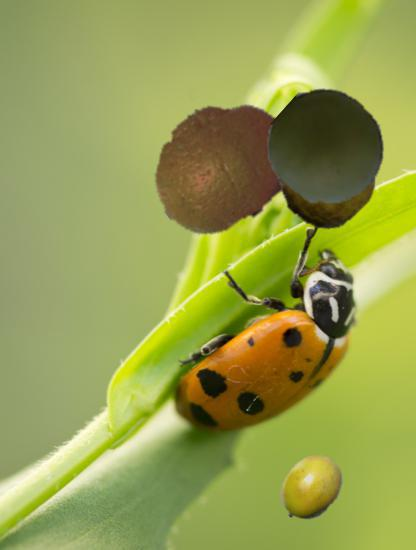Grape: (269, 90, 386, 207)
Guava: (264, 117, 378, 231)
Mandarine: (148, 91, 297, 240)
Maracuja: (276, 453, 347, 524)
